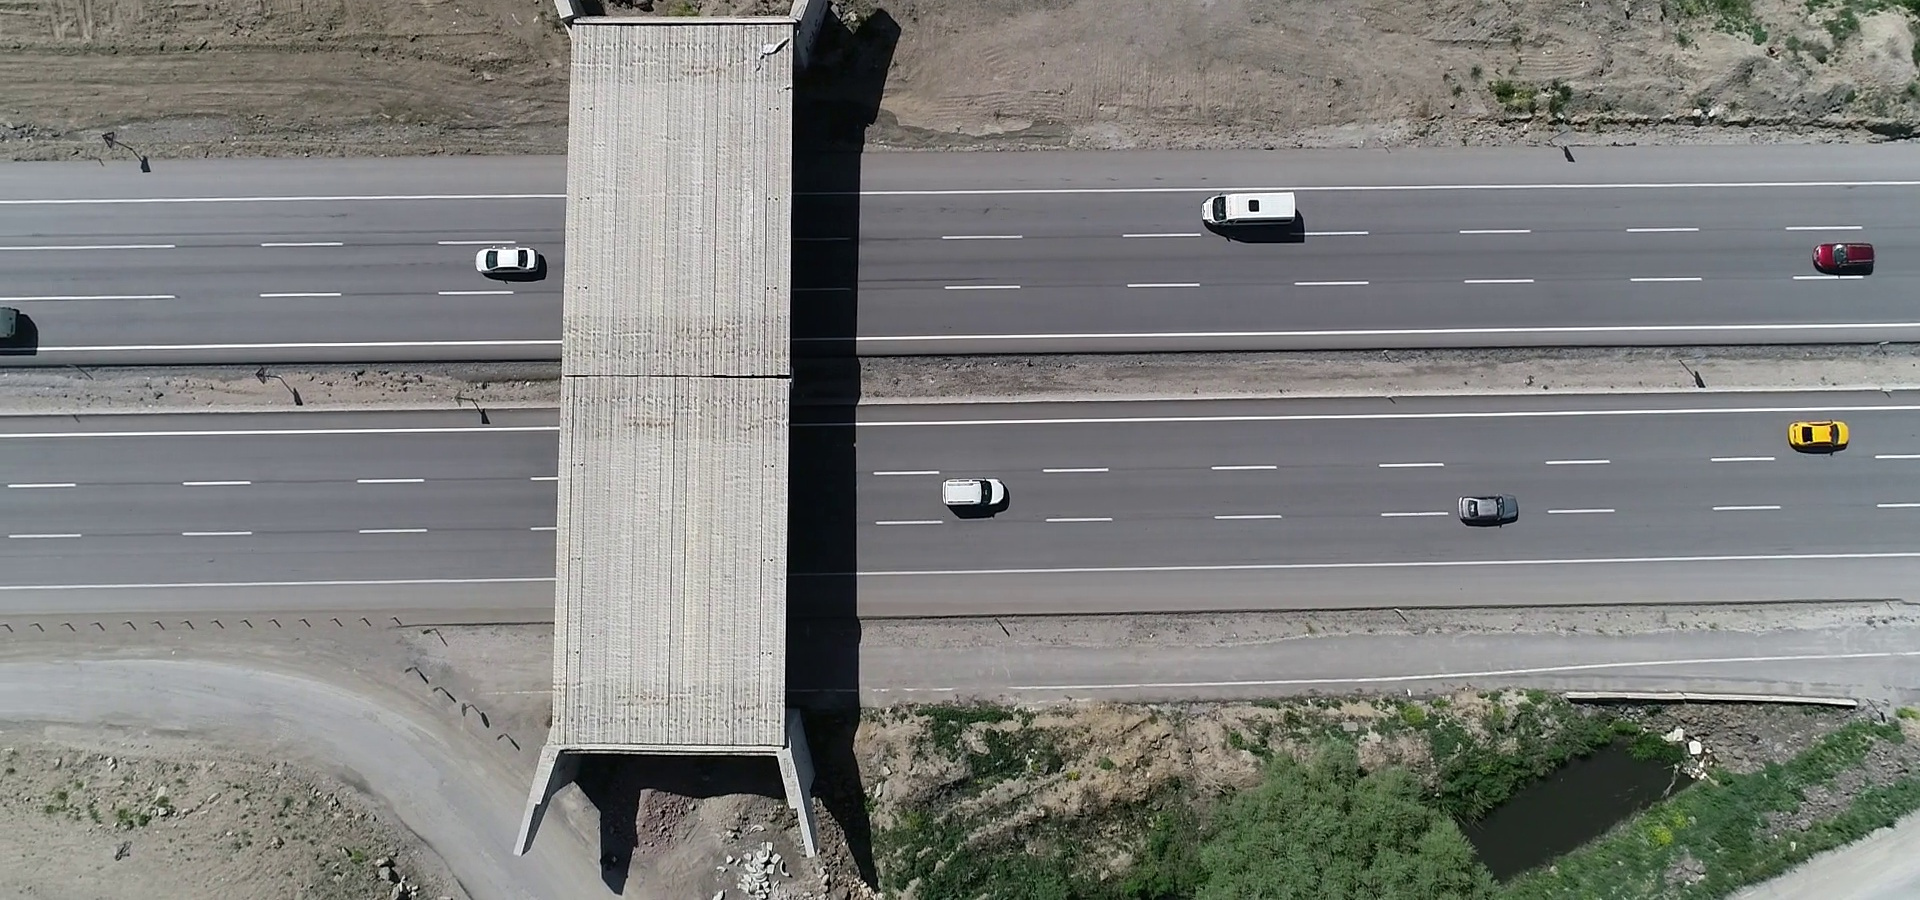arac: (1194, 187, 1307, 233), (1801, 235, 1889, 279), (467, 242, 544, 287), (939, 471, 1016, 516), (1787, 415, 1848, 454), (1457, 493, 1523, 529)
